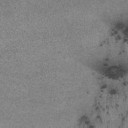iron sheet ash: (110, 20, 128, 44), (103, 64, 126, 80), (80, 115, 88, 121), (116, 34, 121, 40), (100, 84, 106, 89), (110, 90, 116, 94), (85, 121, 90, 125), (88, 125, 94, 128)
